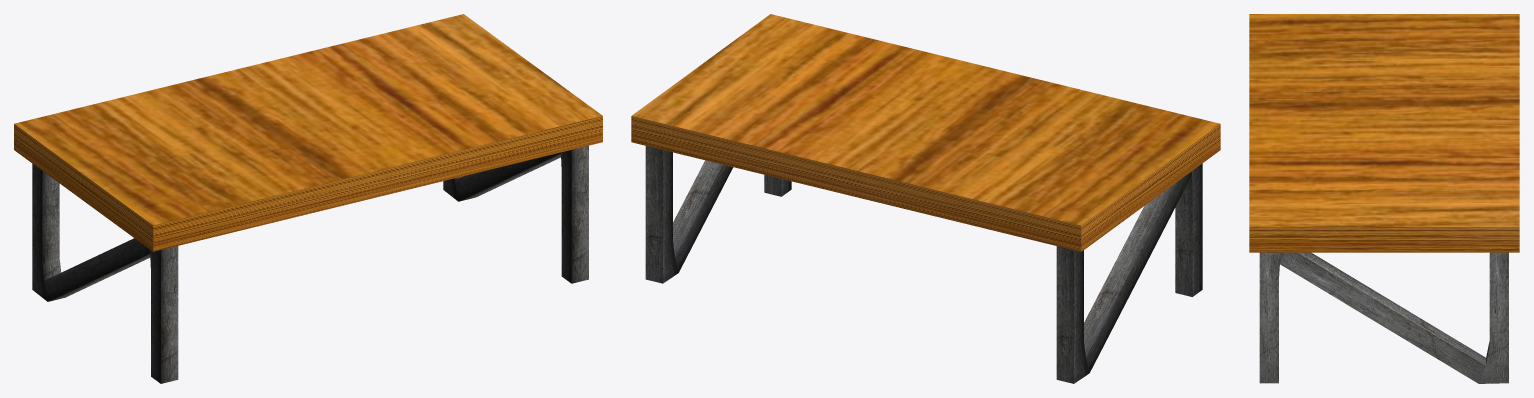
Rendered from table.fbx.
3 renders of one model, left to right at view 1: azimuth 30°, elevation 25°; view 2: azimuth 150°, elevation 25°; view 3: azimuth 270°, elevation 25°, orthographic. The views are drawn at different scales.
Visible parts, largest first — view 1: Cube.002; view 2: Cube.002; view 3: Cube.002.
Boxes of the visible parts, x1=… form: Cube.002: x1=14, y1=14, x2=602, y2=383; Cube.002: x1=631, y1=14, x2=1220, y2=383; Cube.002: x1=1249, y1=14, x2=1519, y2=383.
Bounding box in the file's own units: 751 × 265 × 402.
